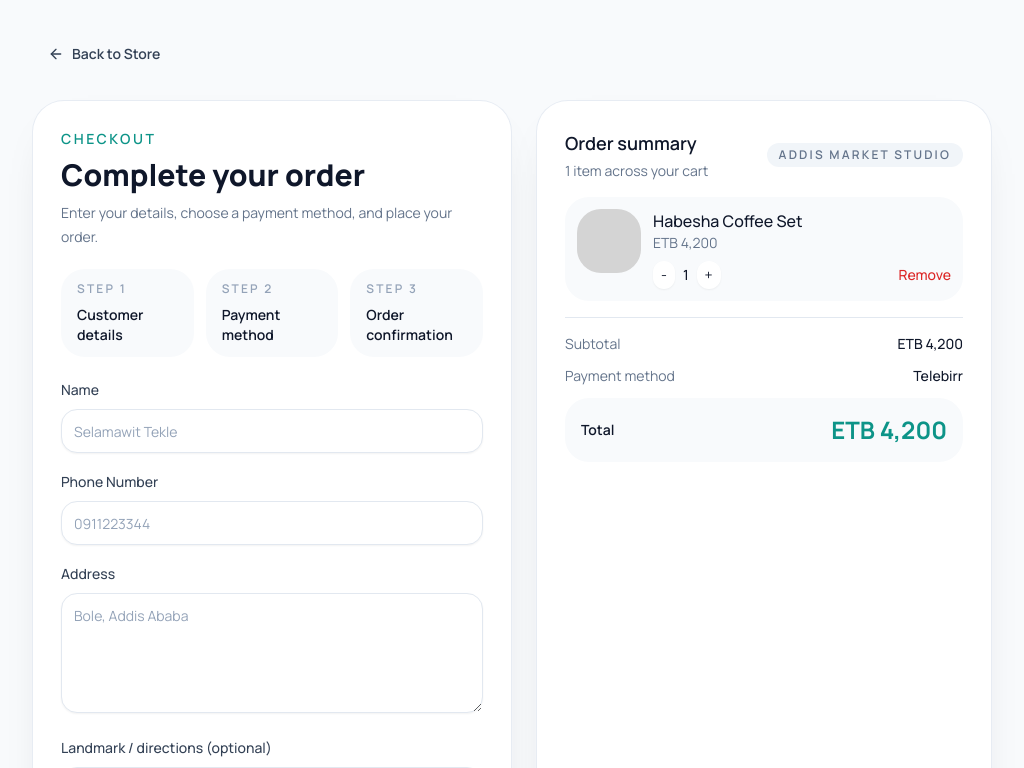
it: checkout flow › updates quantity controls and removes items from the checkout cart
Expected: the text "Habesha Coffee Set" is shown, x1=653 y1=210 x2=802 y2=232
Step 1. Click the button named "Increase quantity for Habesha Coffee Set" → (709, 275), box x1=697 y1=261 x2=721 y2=289
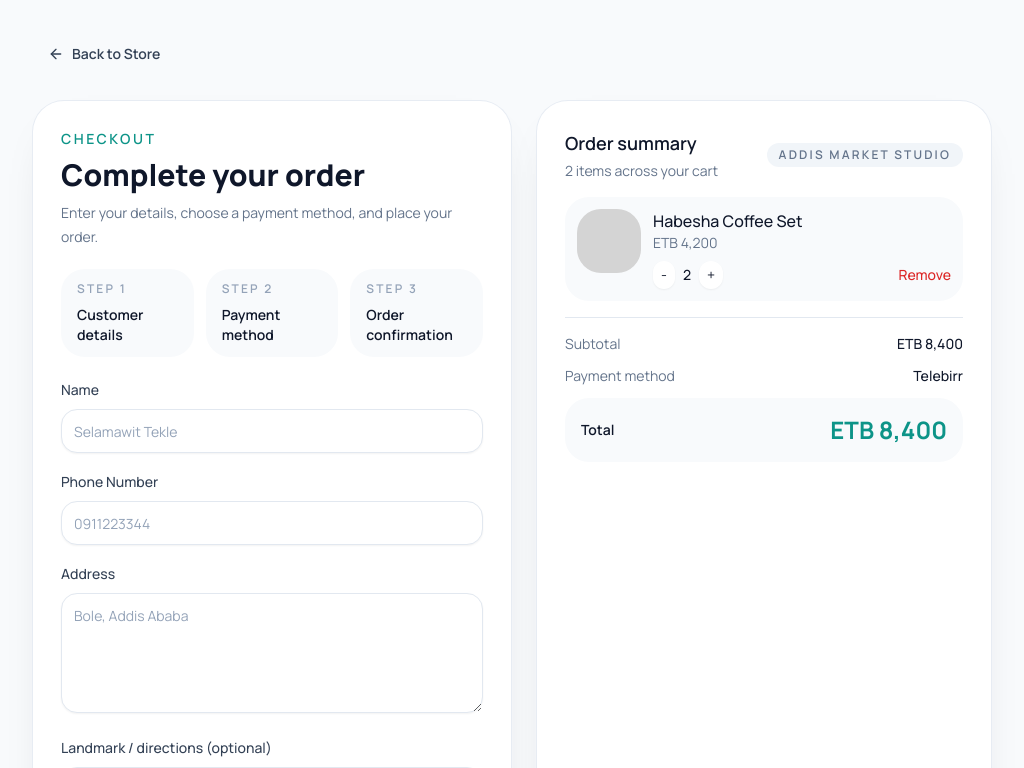
Step 2. Click the button named "Decrease quantity for Habesha Coffee Set" → (664, 275), box x1=653 y1=261 x2=675 y2=289
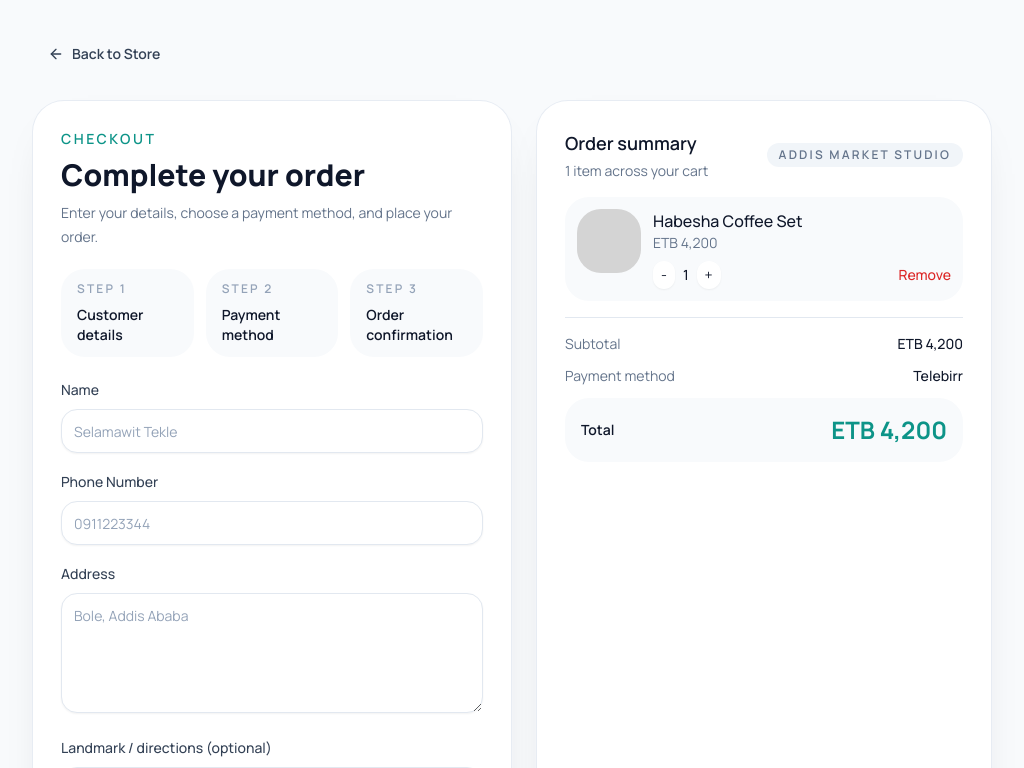
Step 3. Click the button with aria-label "Remove Habesha Coffee Set" → (925, 275), box x1=898 y1=265 x2=951 y2=285
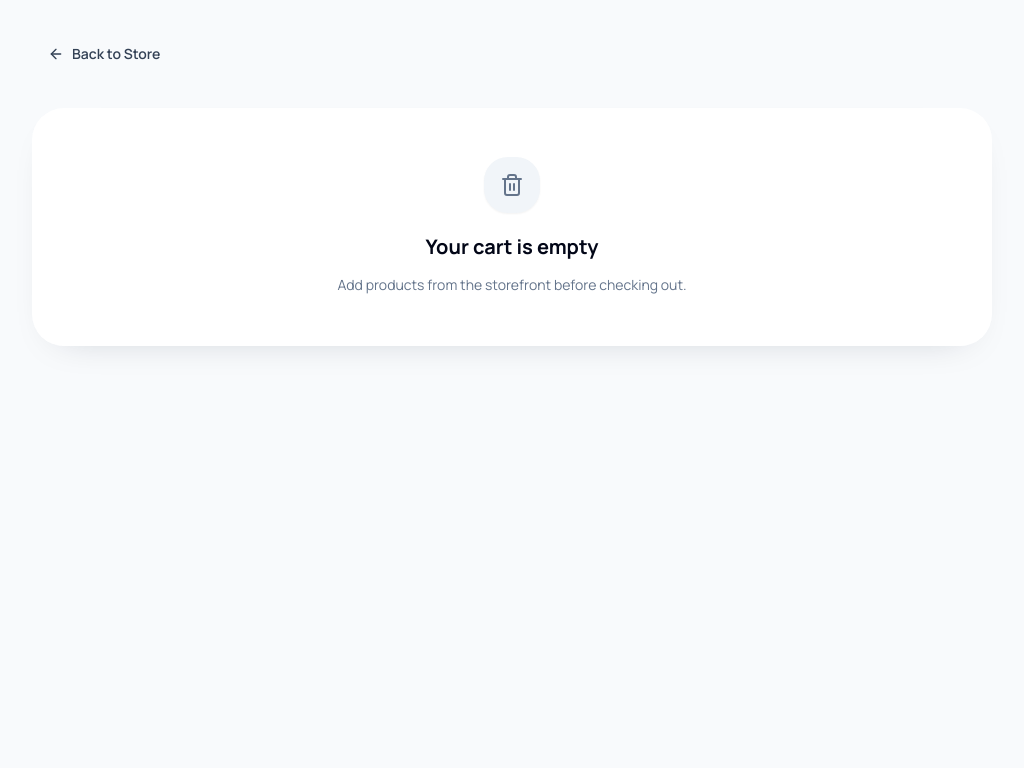
Result: the heading "Your cart is empty" is shown at x1=426 y1=233 x2=598 y2=260
